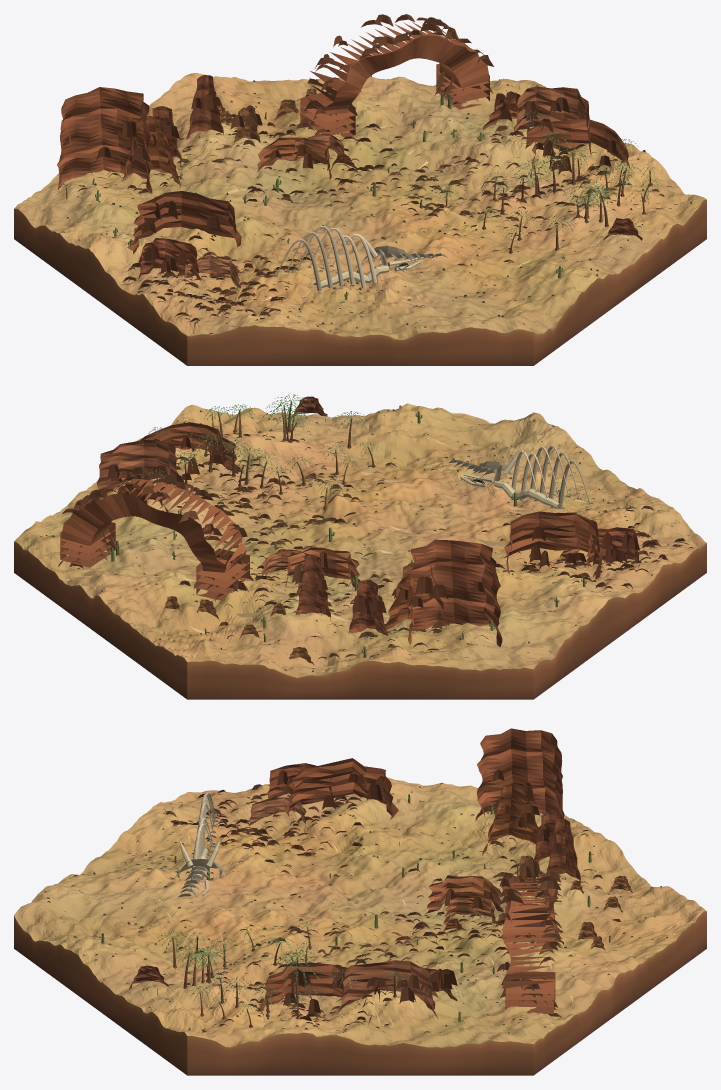
3 renders of one model, top to bottom at view 1: azimuth 30°, elevation 25°; view 2: azimuth 150°, elevation 25°; view 3: azimuth 270°, elevation 25°, orthographic.
Parts seen in each view (by area): view 1: terrace_sand, hex_stone_cut, bedrock_red_sandstone, arch_sandstone, scattered_stones, rock_dark_crevices, fossil_bones, palm_fronds, palm_wood, desert_scrub, washes_dune_ridges, cacti; view 2: terrace_sand, hex_stone_cut, bedrock_red_sandstone, arch_sandstone, scattered_stones, rock_dark_crevices, fossil_bones, palm_fronds, washes_dune_ridges, palm_wood, desert_scrub, cacti; view 3: terrace_sand, hex_stone_cut, bedrock_red_sandstone, arch_sandstone, scattered_stones, rock_dark_crevices, palm_fronds, fossil_bones, palm_wood, desert_scrub, washes_dune_ridges, cacti.
Part boxes in pixels (box(x1,y1,x2,y2)): terrace_sand: box(14, 73, 706, 339); hex_stone_cut: box(14, 199, 706, 365); bedrock_red_sandstone: box(57, 75, 642, 287); arch_sandstone: box(300, 14, 493, 137); scattered_stones: box(42, 79, 695, 334); rock_dark_crevices: box(96, 91, 616, 274); fossil_bones: box(257, 225, 447, 330); palm_fronds: box(437, 111, 661, 239); palm_wood: box(445, 117, 652, 253); desert_scrub: box(62, 75, 691, 331); washes_dune_ridges: box(70, 81, 652, 320); cacti: box(92, 92, 562, 299); terrace_sand: box(14, 403, 706, 677); hex_stone_cut: box(14, 541, 706, 699); bedrock_red_sandstone: box(97, 396, 639, 665); arch_sandstone: box(59, 467, 249, 600); scattered_stones: box(39, 411, 694, 668); rock_dark_crevices: box(107, 437, 639, 617); fossil_bones: box(449, 445, 620, 524); palm_fronds: box(142, 394, 380, 496); washes_dune_ridges: box(41, 422, 653, 669); palm_wood: box(156, 401, 375, 510); desert_scrub: box(36, 405, 682, 671); cacti: box(109, 411, 586, 657); terrace_sand: box(14, 777, 706, 1047); hex_stone_cut: box(14, 911, 706, 1075); bedrock_red_sandstone: box(129, 728, 632, 1024); arch_sandstone: box(497, 870, 562, 1013); scattered_stones: box(67, 784, 652, 1043); rock_dark_crevices: box(177, 769, 567, 1013); palm_fronds: box(154, 922, 405, 1015); fossil_bones: box(88, 792, 248, 897); palm_wood: box(172, 927, 396, 1027); desert_scrub: box(35, 783, 668, 1033); washes_dune_ridges: box(120, 807, 616, 1029); cacti: box(101, 794, 611, 1021).
Bounding box in the file's own units: 4330 × 1001 × 5000.
